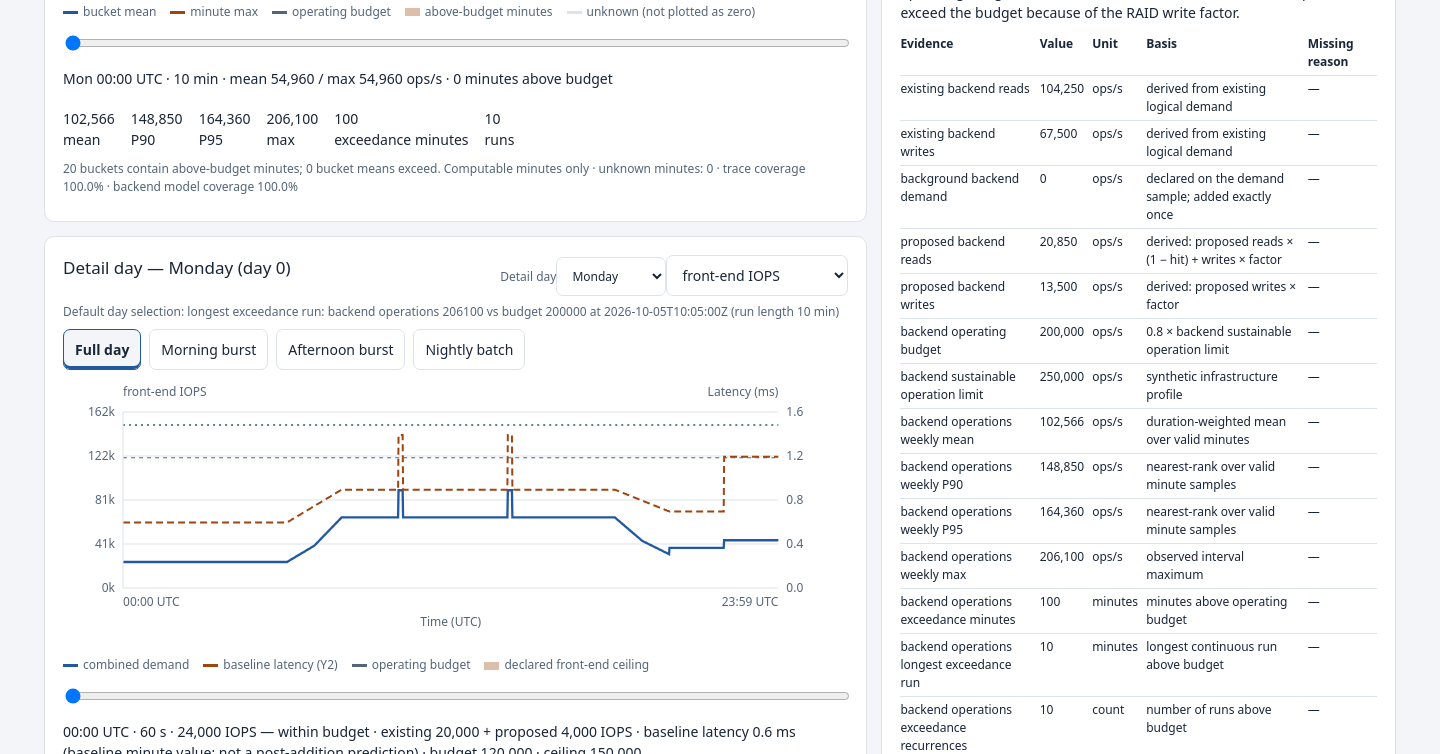
App (default INF-B × WL-VM) › exactly one available preset stays selected and agrees with the displayed window
The image size is (1440, 754).
(page scrolled)
Expected: the button "Full day" is shown, x1=63 y1=329 x2=141 y2=370
Step 1. Click the button "Morning burst" → (209, 349), box x1=149 y1=329 x2=268 y2=370
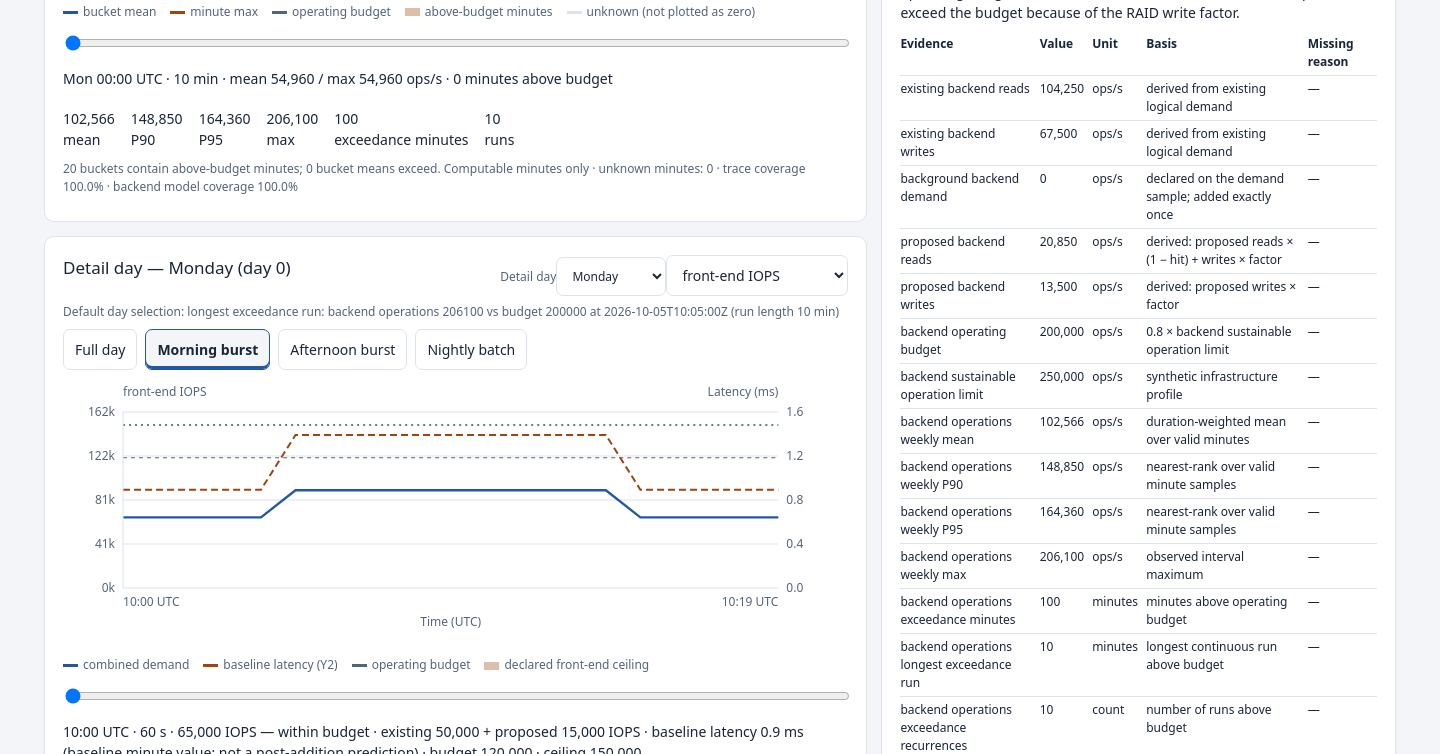
Expected: the button "Morning burst" is shown, x1=145 y1=329 x2=270 y2=370
Expected: the text "10:00 UTC" is shown, x1=123 y1=593 x2=180 y2=610
Note: changing the detail day resets selection to Full day and the window agrees
Step 2. Select "Saturday" in the dropdown labelled "Detail day" → (611, 276), box x1=556 y1=257 x2=666 y2=296
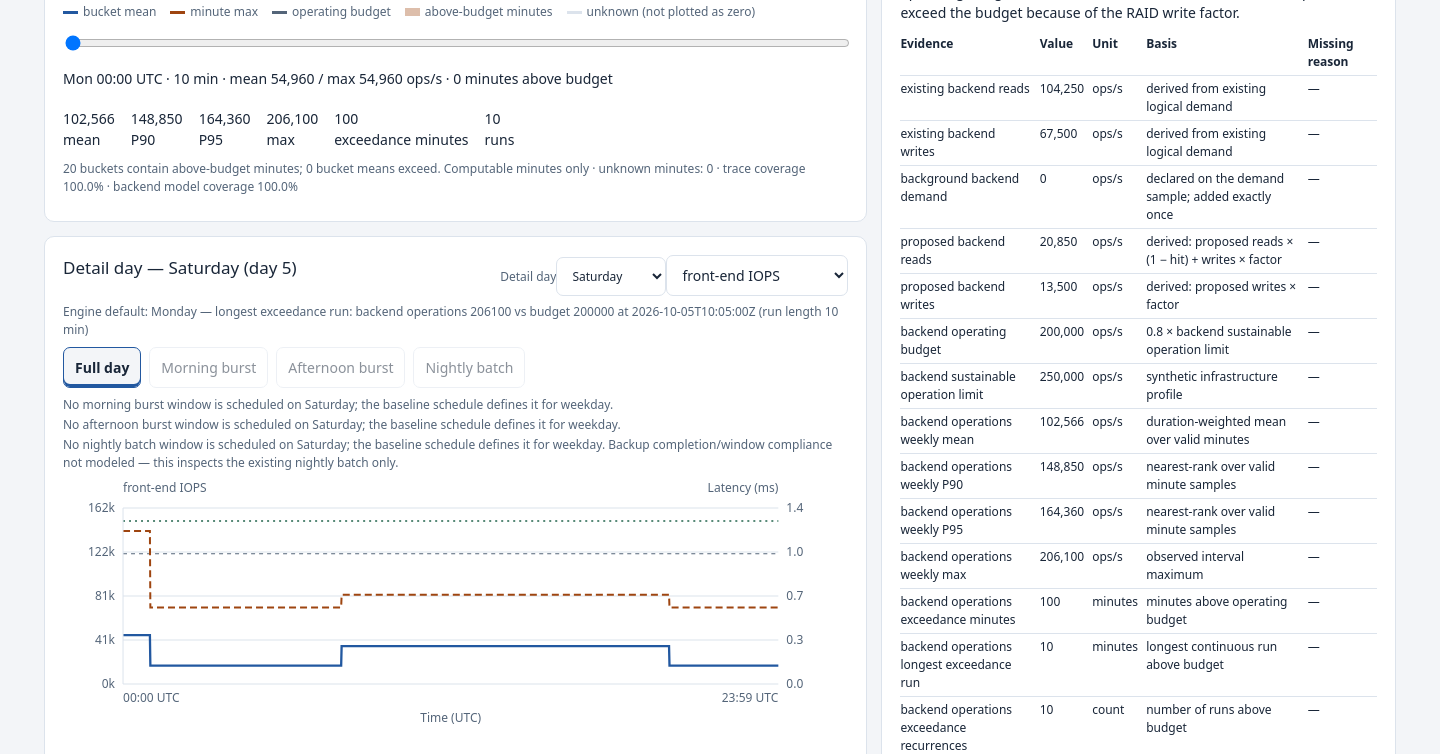
Expected: the button "Full day" is shown, x1=63 y1=347 x2=141 y2=388
Expected: the button "Morning burst" is disabled, x1=149 y1=347 x2=268 y2=388
